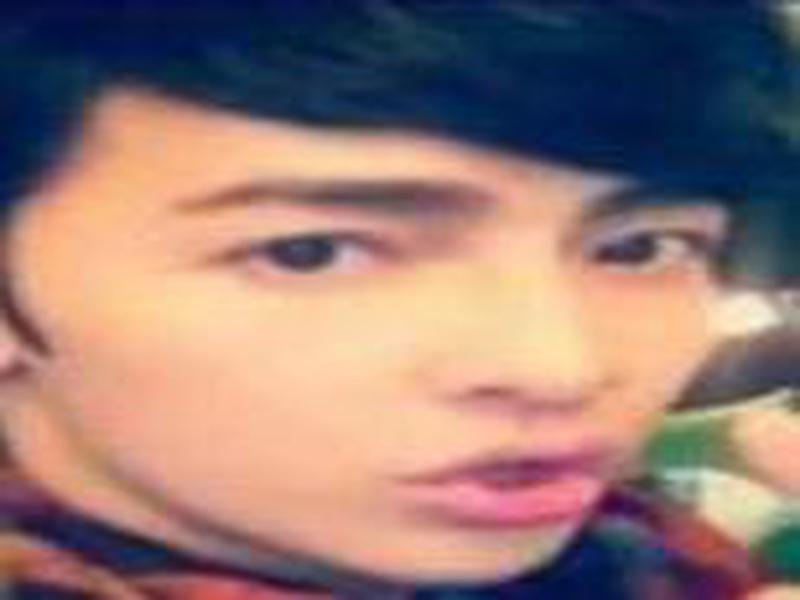without_mask: (12, 67, 727, 584)
